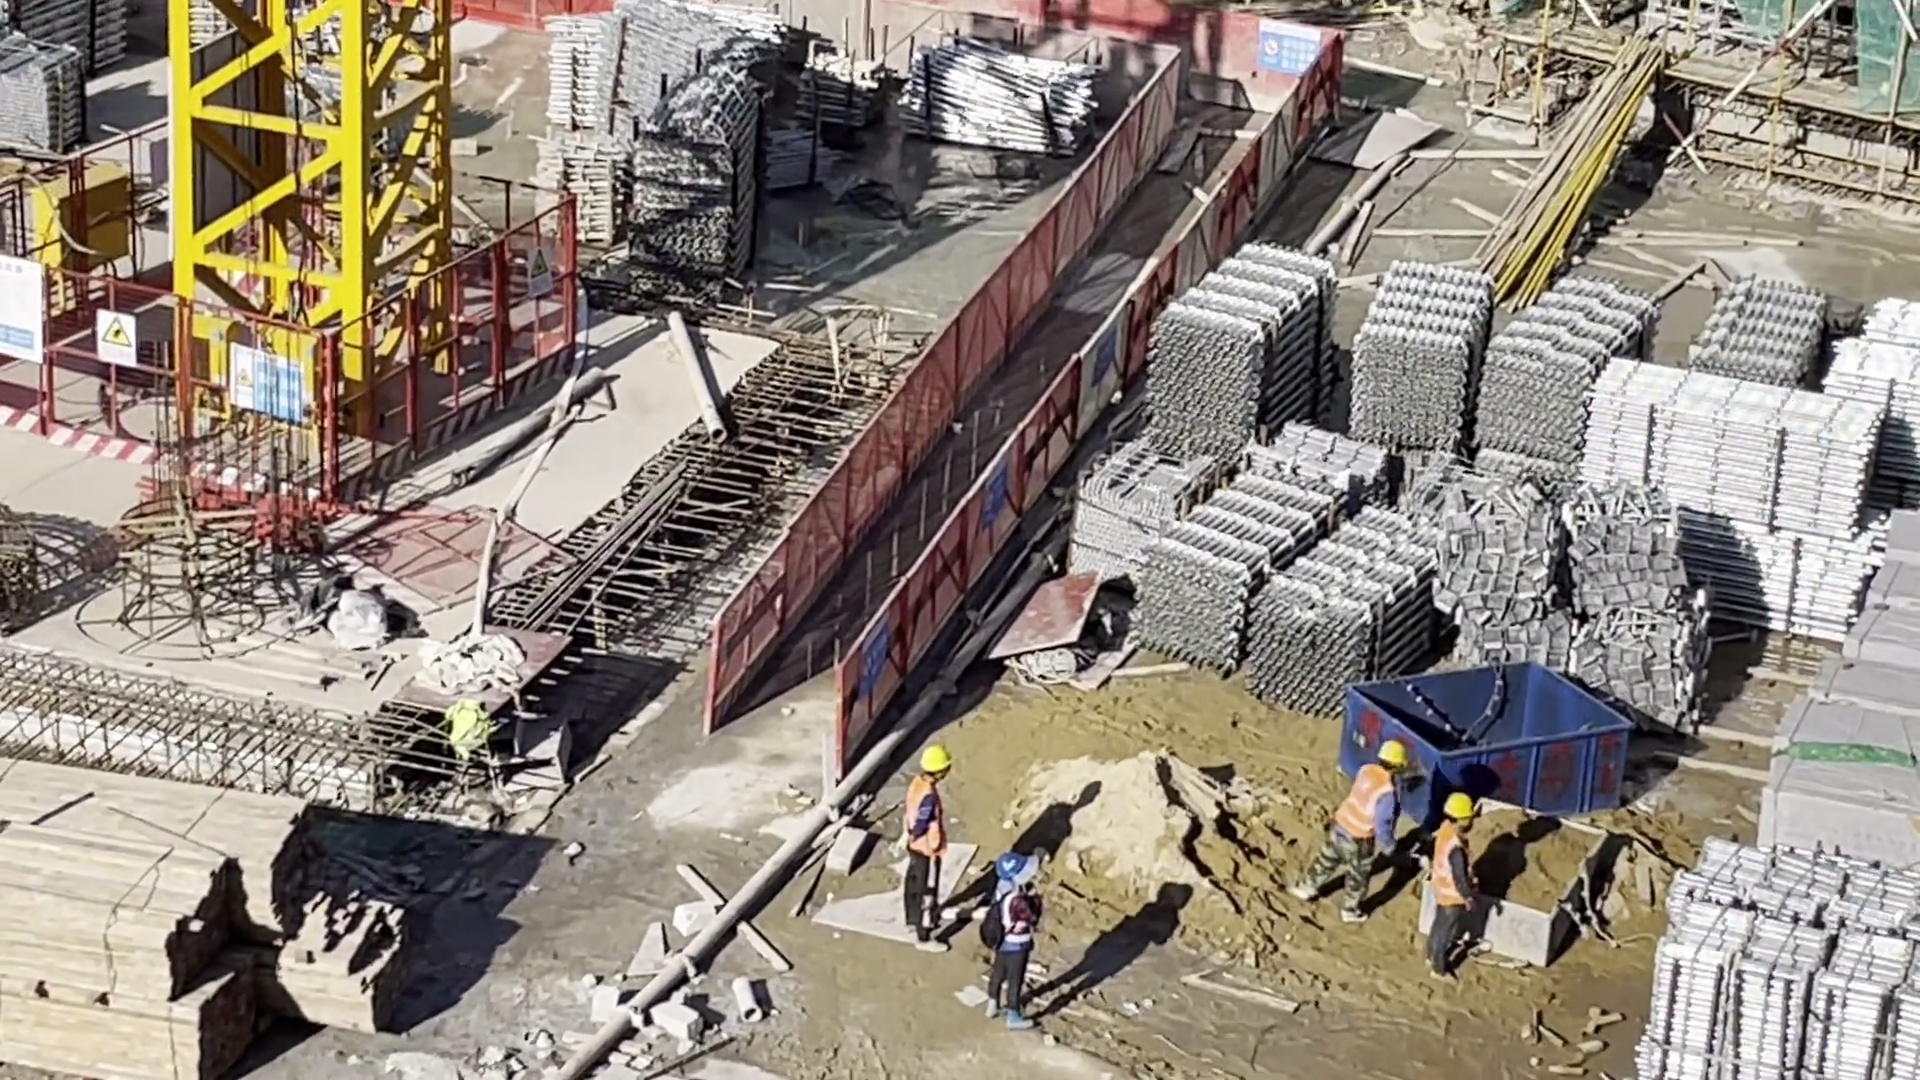fence: (689, 28, 1342, 752)
helmet: (1366, 719, 1406, 771), (913, 737, 956, 784), (1436, 783, 1480, 828), (993, 853, 1030, 878)
hopper: (1348, 655, 1626, 816), (1474, 790, 1612, 963)
person: (874, 733, 954, 971), (1307, 725, 1399, 923), (1432, 786, 1497, 999), (989, 847, 1049, 1034)
scaffold: (1199, 209, 1913, 655), (555, 12, 1087, 157), (1673, 821, 1908, 1080)
slogan: (1280, 28, 1310, 75)
vest: (1326, 768, 1393, 839), (899, 777, 948, 855), (1440, 830, 1485, 911), (983, 881, 1037, 948)
wood: (24, 780, 395, 1019)
